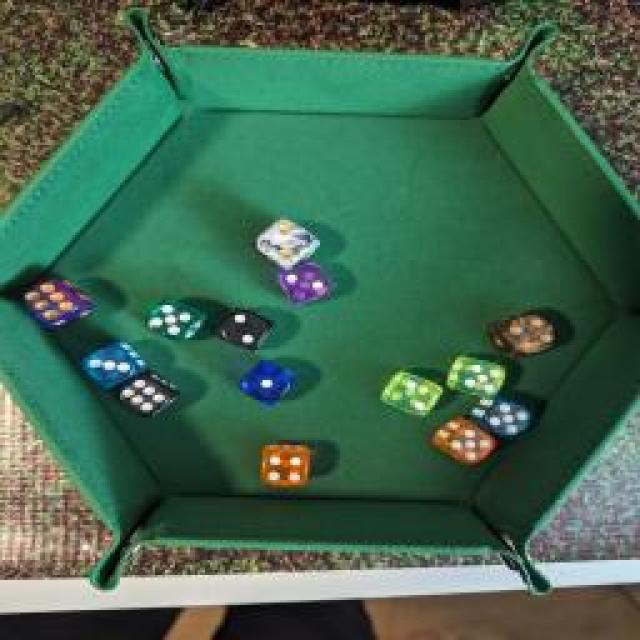dice_1: (230, 356, 302, 409)
dice_2: (250, 211, 325, 269), (370, 369, 445, 416), (211, 302, 274, 352), (274, 262, 336, 308)
dice_3: (80, 340, 145, 388)
dice_4: (484, 306, 558, 359), (251, 439, 324, 491)
dice_5: (434, 415, 501, 473), (138, 299, 214, 346), (442, 351, 506, 399), (471, 396, 541, 434)
dice_6: (17, 275, 95, 330), (116, 368, 189, 420)
